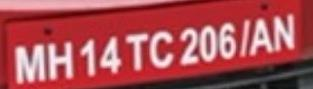0: (198, 23, 218, 62)
1: (77, 37, 97, 77)
2: (179, 26, 199, 65)
4: (97, 34, 122, 75)
6: (218, 19, 236, 60)
A: (248, 17, 273, 54)
C: (148, 28, 174, 70)
H: (45, 39, 74, 80)
M: (13, 42, 45, 83)
N: (272, 11, 296, 52)
T: (123, 31, 149, 71)
